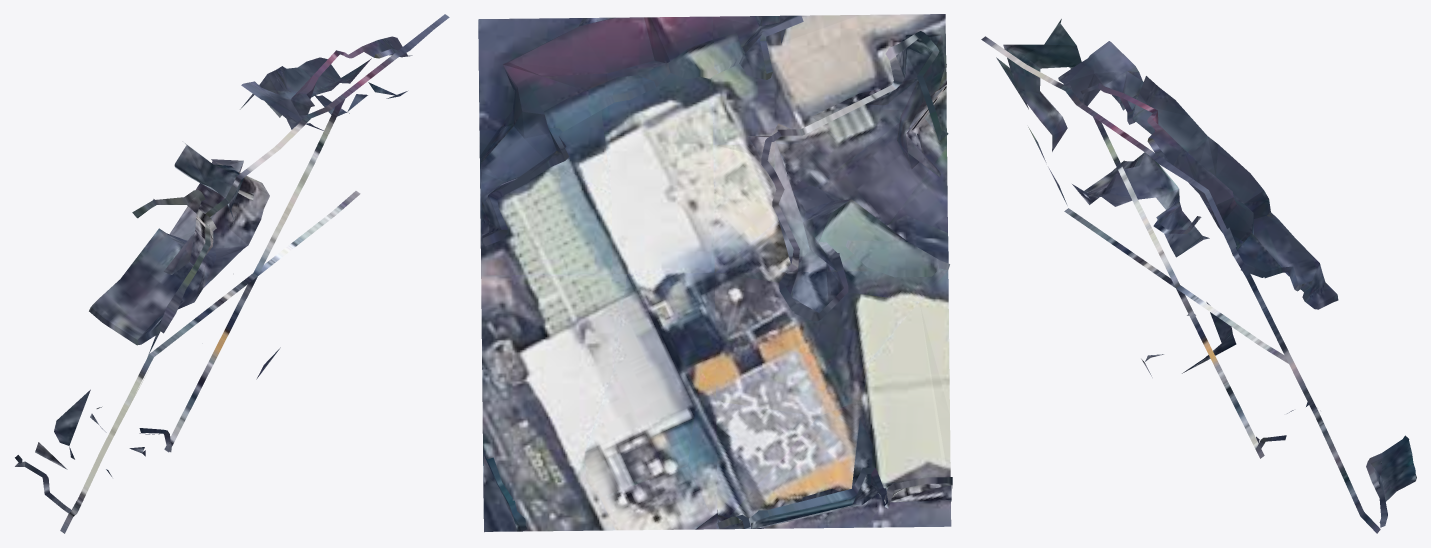
The picture shows the model from 3 angles, left to right: view 1: azimuth 30°, elevation 25°; view 2: azimuth 150°, elevation 25°; view 3: azimuth 270°, elevation 25°; orthographic projection. The views are drawn at different scales.
Size of the model in its own units: 40.27 by 37.29 by 35.36.
Materials: 1 (1 with a texture image).
